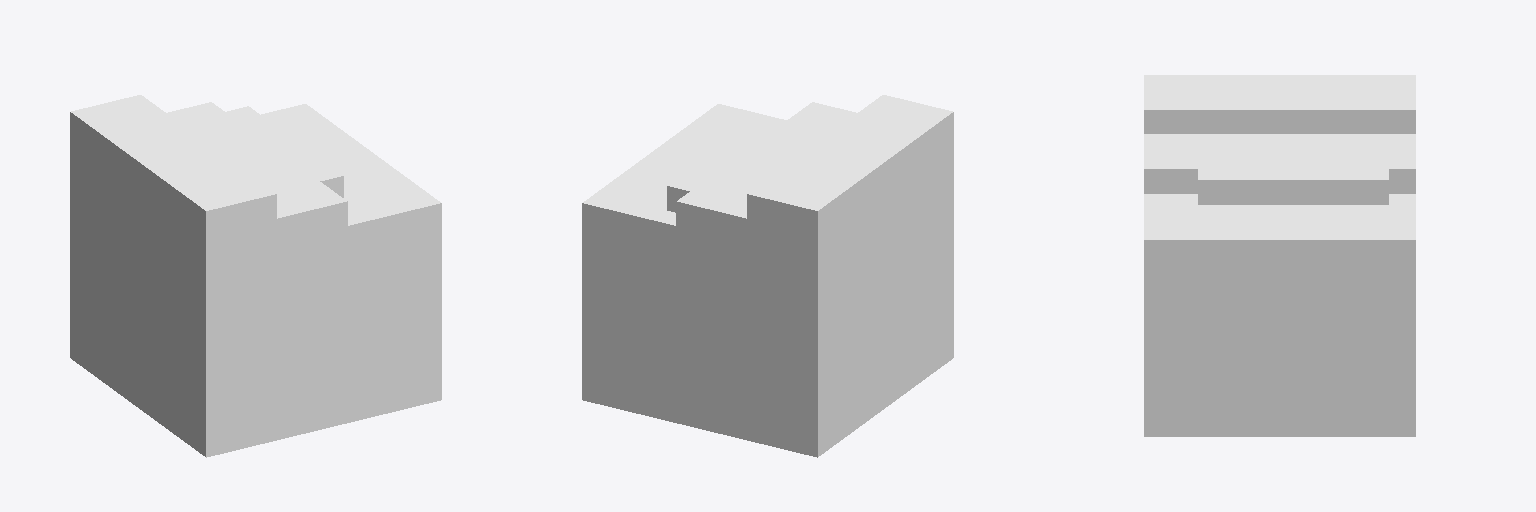
File: Lehm_Rand-0.2.obj
3 views of the same model, side by side, from view 1: azimuth 30°, elevation 25°; view 2: azimuth 150°, elevation 25°; view 3: azimuth 270°, elevation 25° (orthographic).
Parts seen in each view (by area): view 1: object 1; view 2: object 1; view 3: object 1.
Boxes of the visible parts, x1=… form: object 1: x1=70, y1=95, x2=441, y2=457; object 1: x1=582, y1=95, x2=953, y2=457; object 1: x1=1144, y1=75, x2=1415, y2=436.
Size of the model in its own units: 1 by 1 by 1.